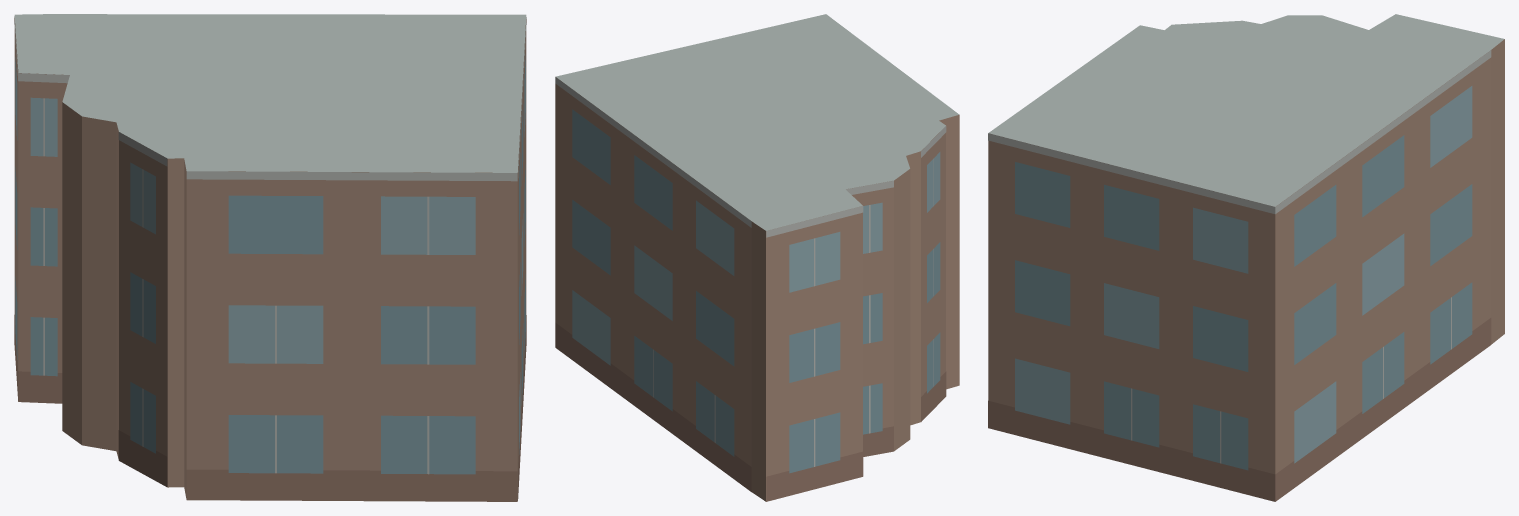
File: survey-upis-32619563.glb
3 views of the same model, side by side, from view 1: azimuth 30°, elevation 25°; view 2: azimuth 150°, elevation 25°; view 3: azimuth 270°, elevation 25° (orthographic). The views are drawn at different scales.
Parts seen in each view (by area): view 1: survey-upis-32619563.tmp; view 2: survey-upis-32619563.tmp; view 3: survey-upis-32619563.tmp.
Part boxes in pixels (x1,y1,x2,y2): survey-upis-32619563.tmp: [14, 14, 526, 501]; survey-upis-32619563.tmp: [555, 14, 959, 501]; survey-upis-32619563.tmp: [988, 14, 1504, 501].
Size of the model in its own units: 13.61 by 9.7 by 15.4.
